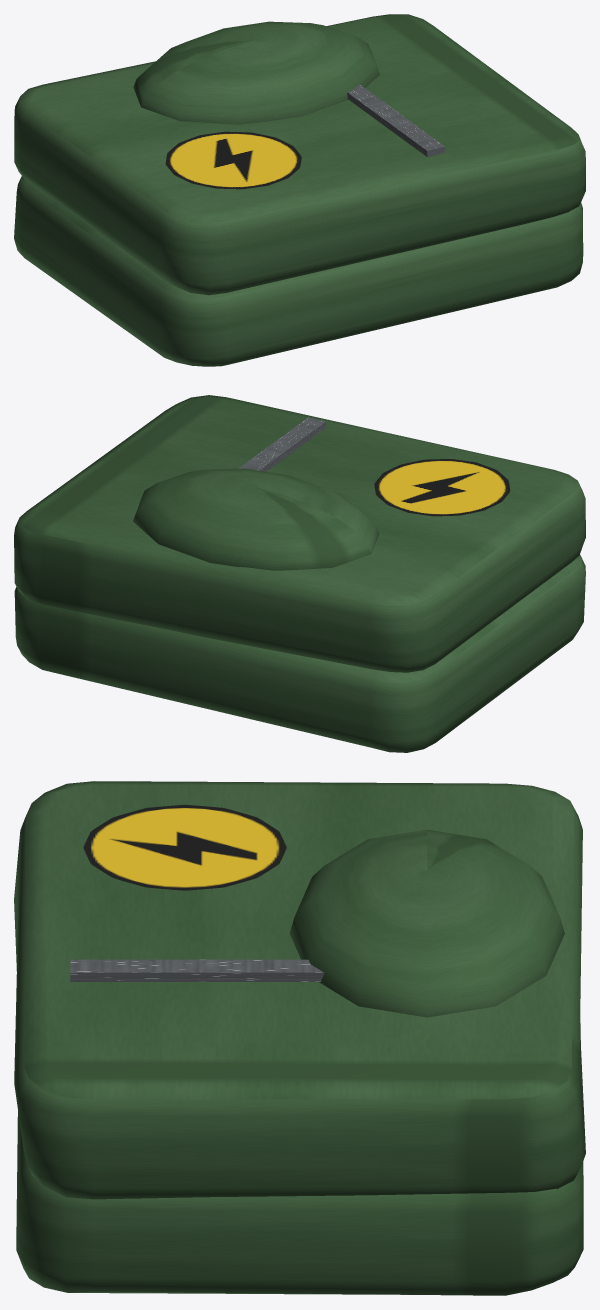
The model's file is suit.obj.
3 renders of one model, top to bottom at view 1: azimuth 30°, elevation 25°; view 2: azimuth 150°, elevation 25°; view 3: azimuth 270°, elevation 25°, orthographic. The views are drawn at different scales.
Parts seen in each view (by area): view 1: suit_0_surface, suit_1_surface; view 2: suit_0_surface, suit_1_surface; view 3: suit_0_surface, suit_1_surface.
Part boxes in pixels (x1,y1,x2,y2): suit_0_surface: (14, 14, 585, 366); suit_1_surface: (347, 84, 445, 157); suit_0_surface: (14, 395, 585, 752); suit_1_surface: (238, 417, 326, 471); suit_0_surface: (14, 781, 585, 1295); suit_1_surface: (70, 959, 324, 981).
Size of the model in its own units: 0.2823 by 0.1241 by 0.2243.
Materials: 2 (2 with a texture image).
